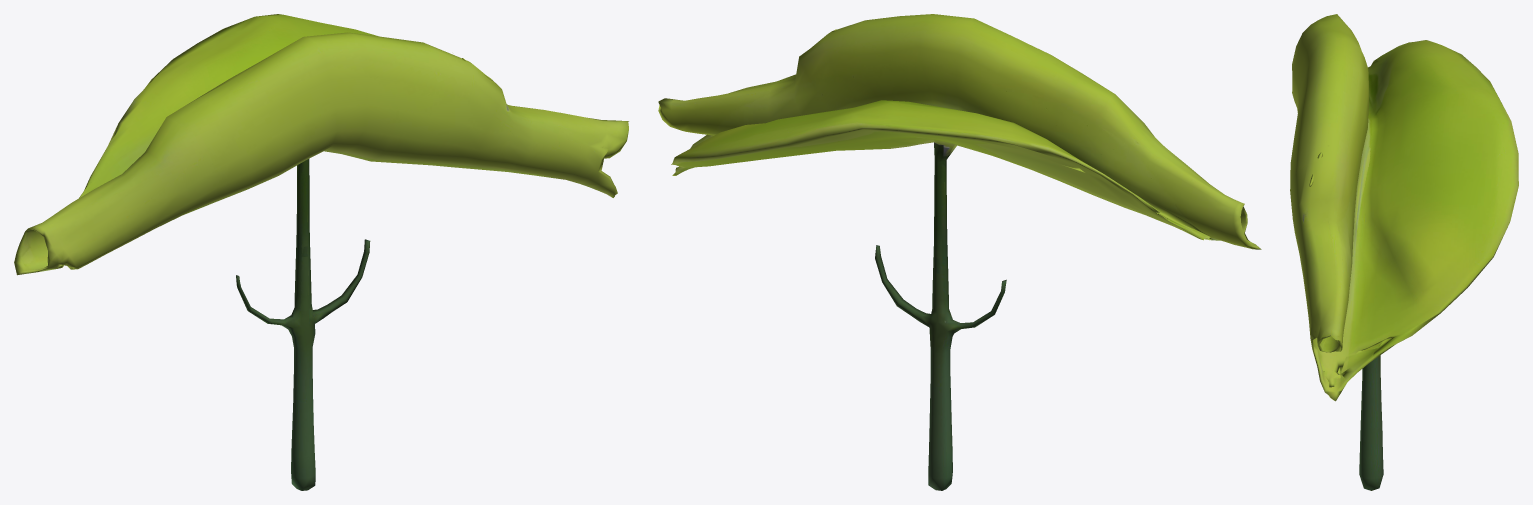
Rendered from monstera_bud_opening.glb.
3 renders of one model, left to right at view 1: azimuth 30°, elevation 25°; view 2: azimuth 150°, elevation 25°; view 3: azimuth 270°, elevation 25°, orthographic. The views are drawn at different scales.
Visible parts, largest first — view 1: tripo_node_879906b9-badb-48fe-a05b-c0af8fccc9f9; view 2: tripo_node_879906b9-badb-48fe-a05b-c0af8fccc9f9; view 3: tripo_node_879906b9-badb-48fe-a05b-c0af8fccc9f9.
Boxes of the visible parts, left/top/right/bottom form: tripo_node_879906b9-badb-48fe-a05b-c0af8fccc9f9: left=14, top=14, right=628, bottom=490; tripo_node_879906b9-badb-48fe-a05b-c0af8fccc9f9: left=658, top=14, right=1261, bottom=490; tripo_node_879906b9-badb-48fe-a05b-c0af8fccc9f9: left=1290, top=14, right=1518, bottom=490.
Size of the model in its own units: 0.9935 by 0.7191 by 0.3359.
1 material, 1 textured.
